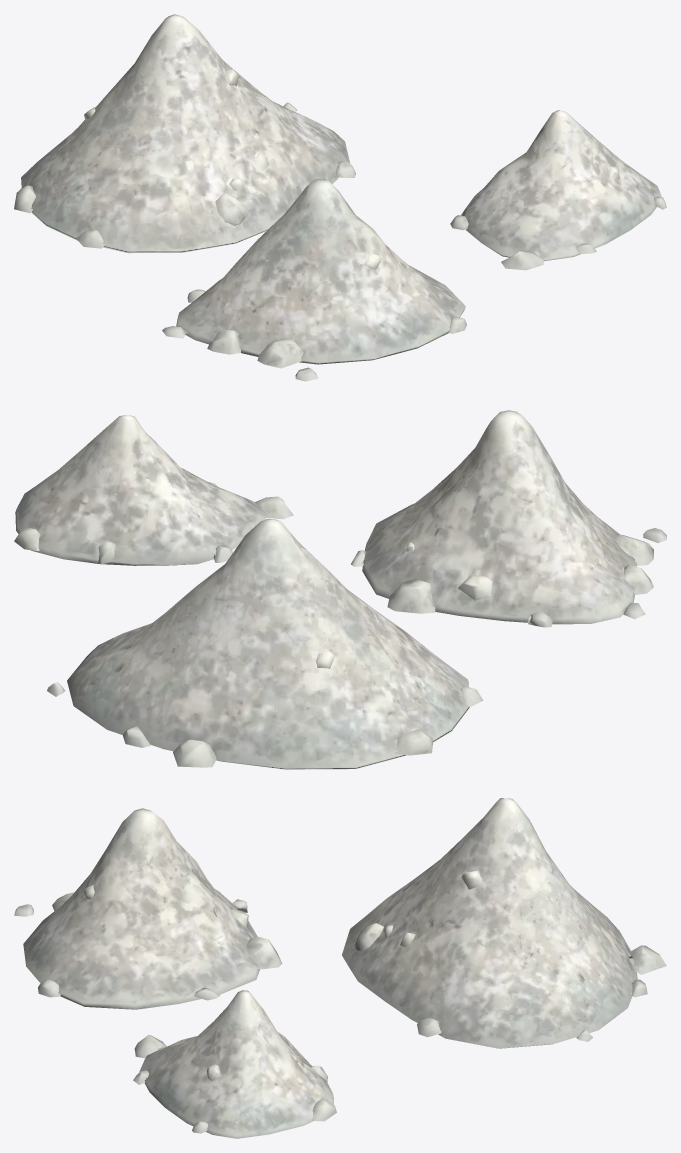
The picture shows the model from 3 angles, top to bottom: view 1: azimuth 30°, elevation 25°; view 2: azimuth 150°, elevation 25°; view 3: azimuth 270°, elevation 25°; orthographic projection. The views are drawn at different scales.
Parts seen in each view (by area): view 1: SM_Soda_Ash_01_LOD0; view 2: SM_Soda_Ash_01_LOD0; view 3: SM_Soda_Ash_01_LOD0.
Boxes of the visible parts, x1,y1,x2,y2 form: SM_Soda_Ash_01_LOD0: (14,14,666,381); SM_Soda_Ash_01_LOD0: (14,410,666,769); SM_Soda_Ash_01_LOD0: (14,798,666,1138).
Bounding box in the file's own units: 0.3994 × 0.1211 × 0.4248.
1 material, 1 textured.
